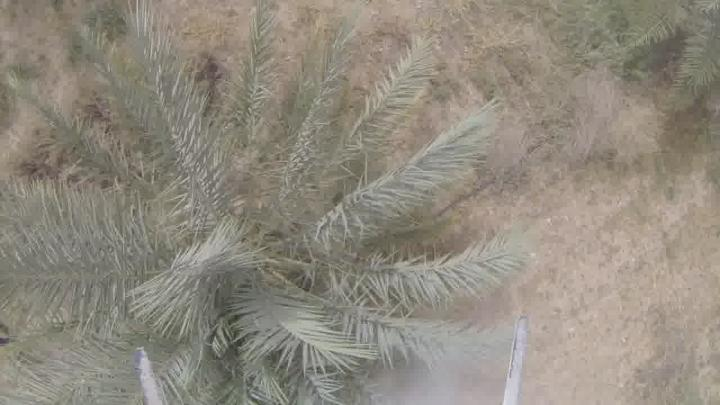Date-Palm-Crown: (100, 106, 436, 404)
